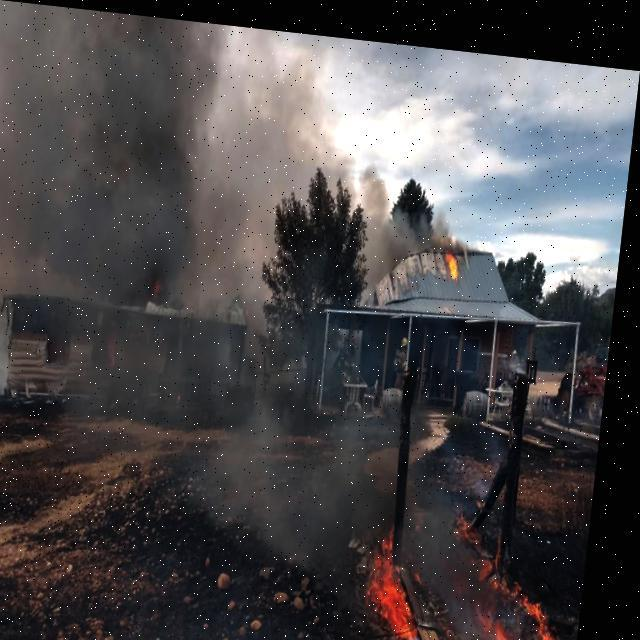Fire: (365, 483, 592, 639), (433, 232, 481, 286)
